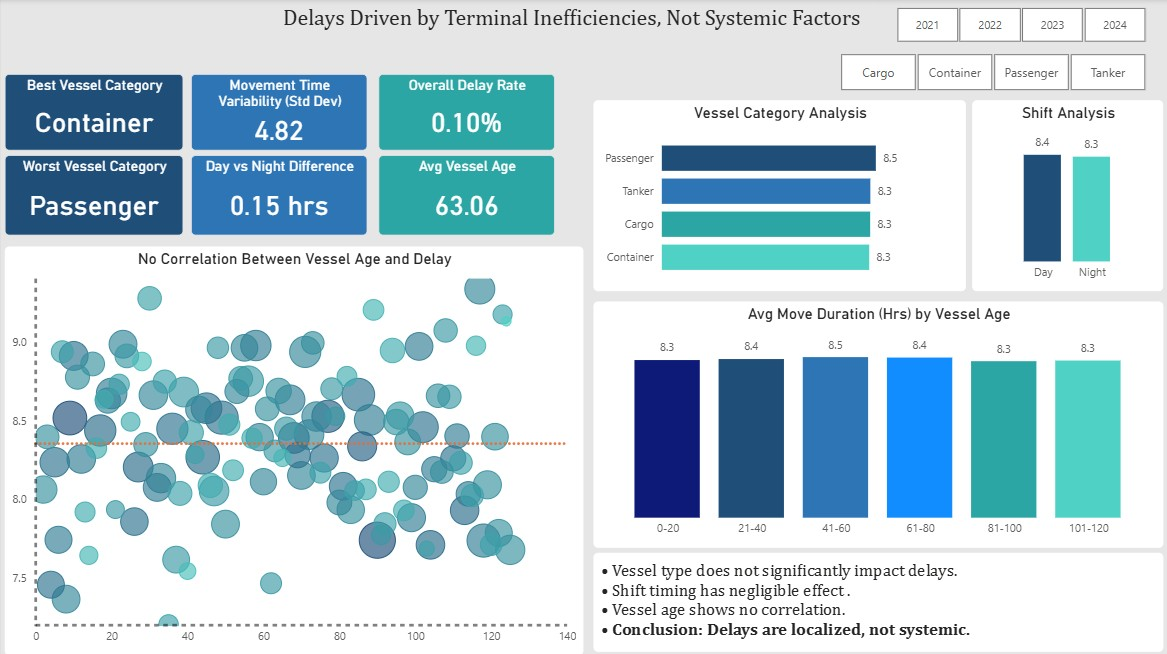

This screenshot's page, from the dashboard's own definition file:
{"tool":"powerbi","page":{"name":"Operational Driver Analysis","canvas":[1280,720],"ordinal":2},"visuals":[{"type":"card","title":"Best Vessel Category","fields":{"Values":["dim_vessel.Best Vessel Category"]},"box":[4.1,82.3,196.2,83.7],"z":0},{"type":"card","title":"Day vs Night Difference","fields":{"Values":["dim_time.DvN Label"]},"box":[207.9,171.5,193.5,87.8],"z":1000},{"type":"card","title":"Worst Vessel Category","fields":{"Values":["dim_vessel.Worst Vessel Category"]},"box":[4.1,171.5,196.2,87.8],"z":2000},{"type":"barChart","title":"Vessel Category Analysis","fields":{"Category":["dim_vessel.vessel_category"],"Y":["fact_cargo_movements.Avg Move Duration (Hrs)"]},"box":[650.4,111.5,408.9,209.9],"z":3000},{"type":"columnChart","title":"Shift Analysis","fields":{"Y":["fact_cargo_movements.Avg Move Duration (Hrs)"],"Category":["dim_time.shift"]},"box":[1066.2,111.5,209.9,209.9],"z":4000},{"type":"scatterChart","title":"No Correlation Between Vessel Age and Delay","fields":{"X":["dim_vessel.Vessel Age"],"Y":["fact_cargo_movements.Avg Move Duration (Hrs)"],"Size":["Sum(fact_cargo_movements.container_count)"]},"box":[4.1,271.7,635.3,448.7],"z":5000},{"type":"card","title":"Movement Time Variability (Std Dev)","fields":{"Values":["fact_cargo_movements.Std Dev Duration (Hrs)"]},"box":[207.9,82.3,193.5,83.7],"z":6000},{"type":"textbox","box":[304.6,0,658.7,46.7],"z":7000},{"type":"textbox","box":[650.4,607.9,625.7,108.4],"z":8000},{"type":"card","title":"Overall Delay Rate","fields":{"Values":["fact_cargo_movements.Delayed %"]},"box":[414.4,82.3,193.5,83.7],"z":9000},{"type":"clusteredColumnChart","title":"Avg Move Duration (Hrs) by Vessel Age","fields":{"Y":["fact_cargo_movements.Avg Move Duration (Hrs)"],"Category":["dim_vessel.Vessel Age Bucket"]},"box":[650.4,332.1,625.7,270.3],"z":10000},{"type":"card","title":"Avg Vessel Age","fields":{"Values":["Avg(dim_vessel.Vessel Age)"]},"box":[414.4,171.5,193.5,87.8],"z":11000},{"type":"slicer","fields":{"Values":["dim_time.fiscal_year"]},"box":[957.5,2.7,322.5,50.8],"z":12000},{"type":"slicer","fields":{"Values":["dim_vessel.vessel_category"]},"box":[896.1,53.5,384.2,53.5],"z":13000}]}

Visuals, with their boxes in screenshot pixels (x1, y1, x2, y2), scaled from the page's 1280x720 canvas onto the 1167x654 screenshot:
"Best Vessel Category" card: 4/75/183/151
"Day vs Night Difference" card: 190/156/366/236
"Worst Vessel Category" card: 4/156/183/236
"Vessel Category Analysis" barChart: 593/101/966/292
"Shift Analysis" columnChart: 972/101/1163/292
"No Correlation Between Vessel Age and Delay" scatterChart: 4/247/583/653
"Movement Time Variability (Std Dev)" card: 190/75/366/151
textbox: 278/0/878/42
textbox: 593/552/1163/651
"Overall Delay Rate" card: 378/75/554/151
"Avg Move Duration (Hrs) by Vessel Age" clusteredColumnChart: 593/302/1163/547
"Avg Vessel Age" card: 378/156/554/236
slicer - dim_time.fiscal_year: 873/2/1166/49
slicer - dim_vessel.vessel_category: 817/49/1166/97
